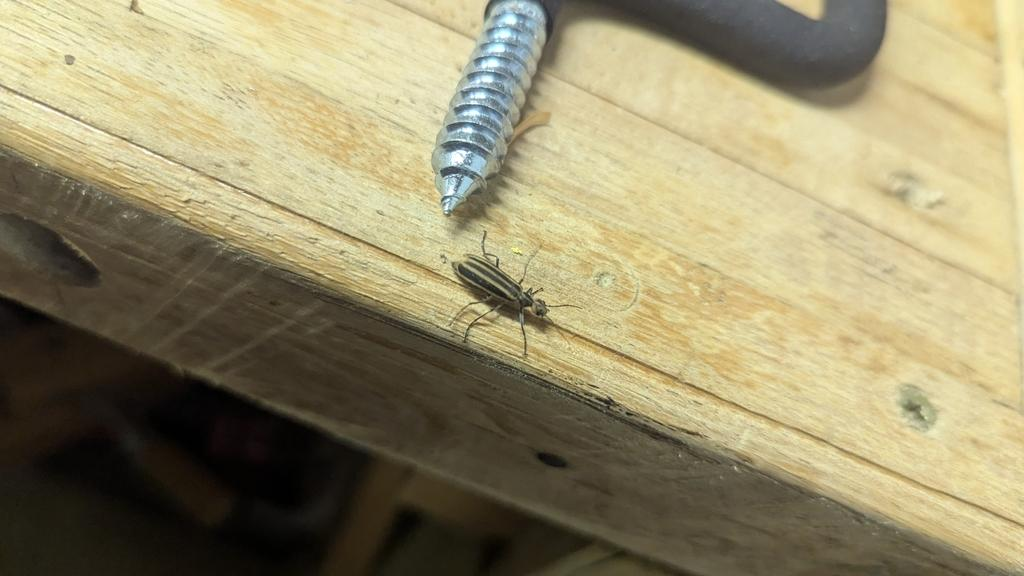blister_beetle: (416, 218, 605, 378)
